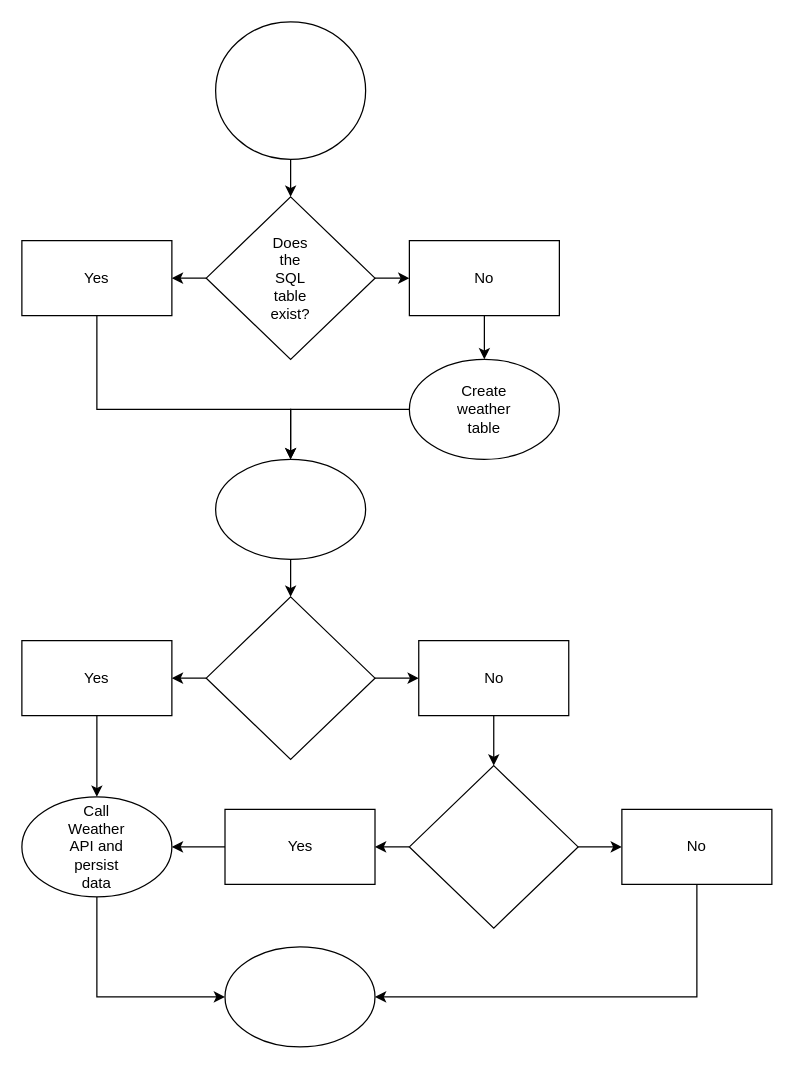
The diagram is 794 pixels wide and 1069 high, and some of its shapes have lost their labels. The shapes that lost their labels are listed below. From the top down, each one's centre as x and y in pixels, then its label:
At pixel 290 90: "Begin".
At pixel 290 508: "Retrieve last weather entry from DB".
At pixel 290 677: "Is the database empty?".
At pixel 493 846: "Is the last weather entry older than 24 minutes?".
At pixel 299 996: "Speak recent weather information".
